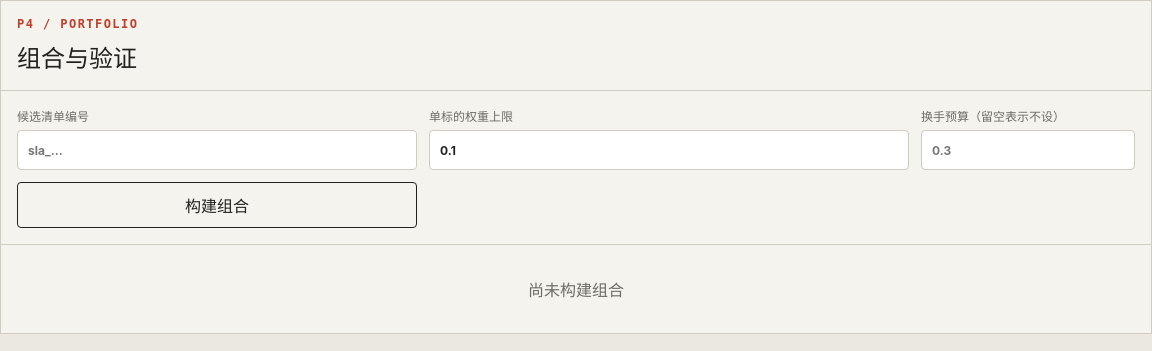
Scenario: PortfolioPage › refuses an empty form locally instead of sending a request that must 422
Click the button "构建组合": x=217, y=205 [17,182,417,228]
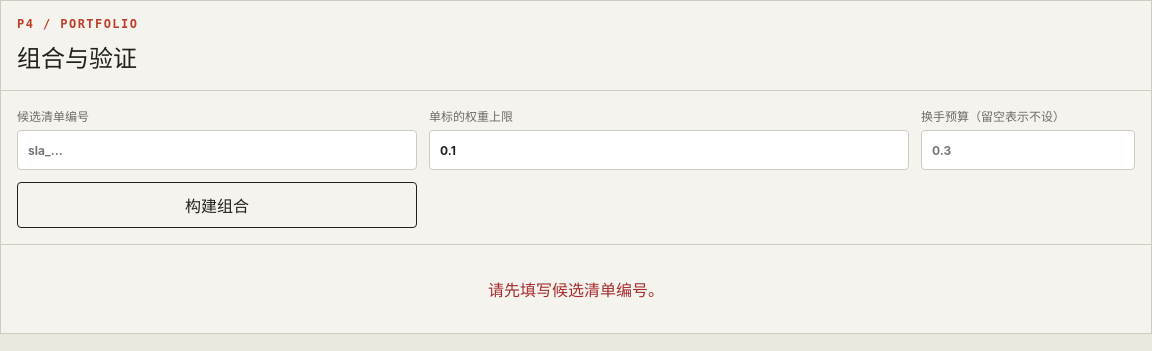
Expected: the message reads "请先填写候选清单编号。", [488,280,664,300]
